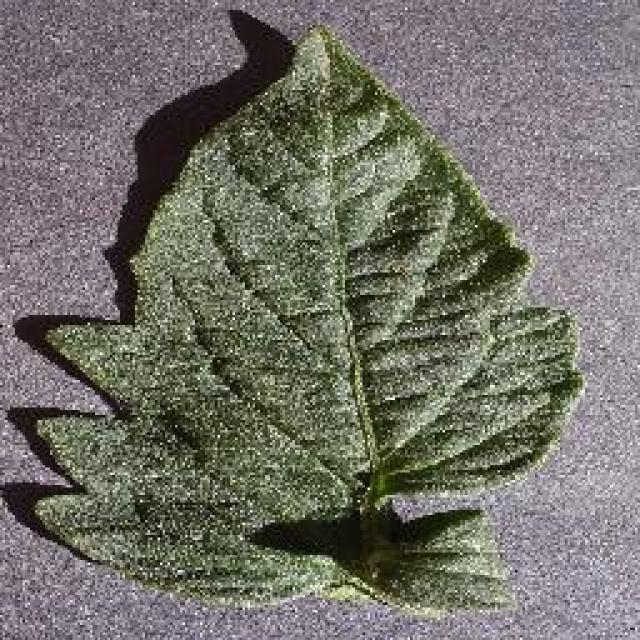Tomato_Healthy: (20, 23, 606, 611)
